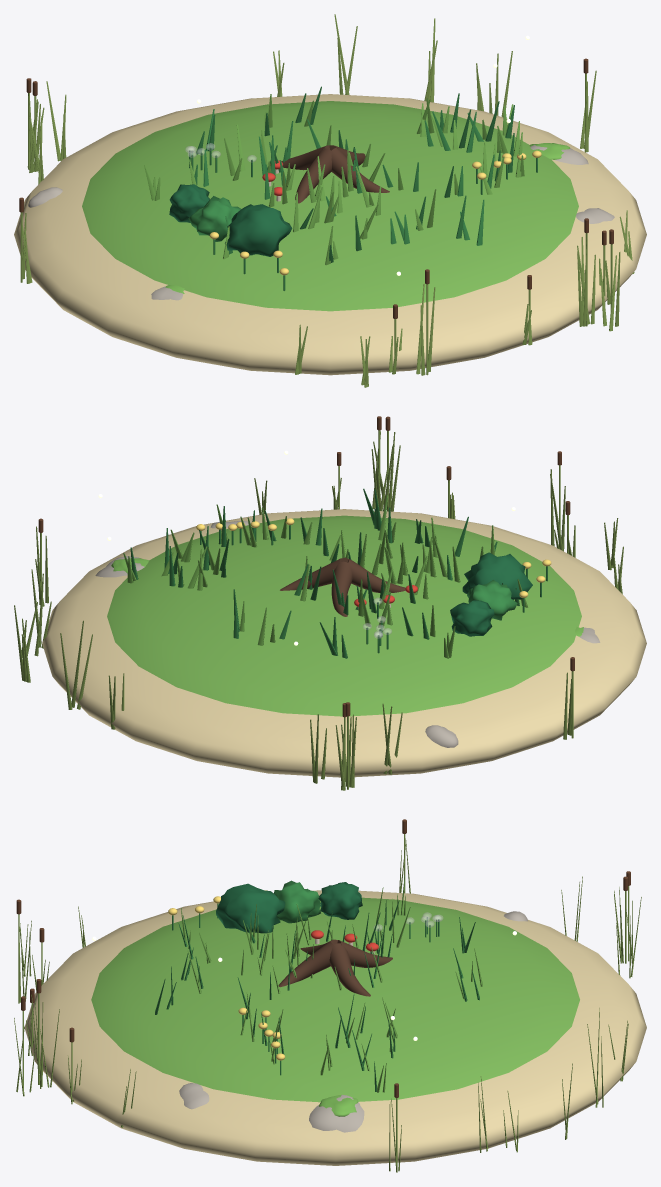
The model's file is islet_07.glb.
The picture shows the model from 3 angles, top to bottom: view 1: azimuth 30°, elevation 25°; view 2: azimuth 150°, elevation 25°; view 3: azimuth 270°, elevation 25°; orthographic projection. The views are drawn at different scales.
Visible parts, largest first — view 1: islet_grass.007, islet_sand.007, bush.023, bush.022, bush.021, root.030, root.031; view 2: islet_grass.007, islet_sand.007, bush.023, bush.021, bush.022, root.029, root.030, root.028, rock.042; view 3: islet_grass.007, islet_sand.007, bush.023, bush.022, bush.021, rock.041, root.028, root.031, root.029, rock.046, moss.022.
Part boxes in pixels (x1,y1,x2,y2): islet_grass.007: (82,101,578,311); islet_sand.007: (14,94,646,375); bush.023: (225,204,292,256); bush.022: (188,196,241,241); bush.021: (169,184,209,222); root.030: (295,148,332,203); root.031: (330,147,389,192); islet_grass.007: (107,515,581,716); islet_sand.007: (42,509,646,777); bush.023: (462,552,532,599); bush.021: (450,600,494,636); bush.022: (467,580,517,620); root.029: (331,561,352,616); root.030: (347,559,405,592); root.028: (280,558,341,590); rock.042: (425,725,458,747); islet_grass.007: (91,897,579,1102); islet_sand.007: (24,890,646,1165); bush.023: (216,883,285,933); bush.022: (274,880,320,923); bush.021: (318,882,362,919); rock.041: (309,1095,364,1132); root.028: (329,943,370,996); root.031: (278,941,334,987); root.029: (337,940,392,967); rock.046: (179,1083,209,1109); moss.022: (319,1094,357,1116).
Bounding box in the file's own units: 8.95 × 2.63 × 8.74.
